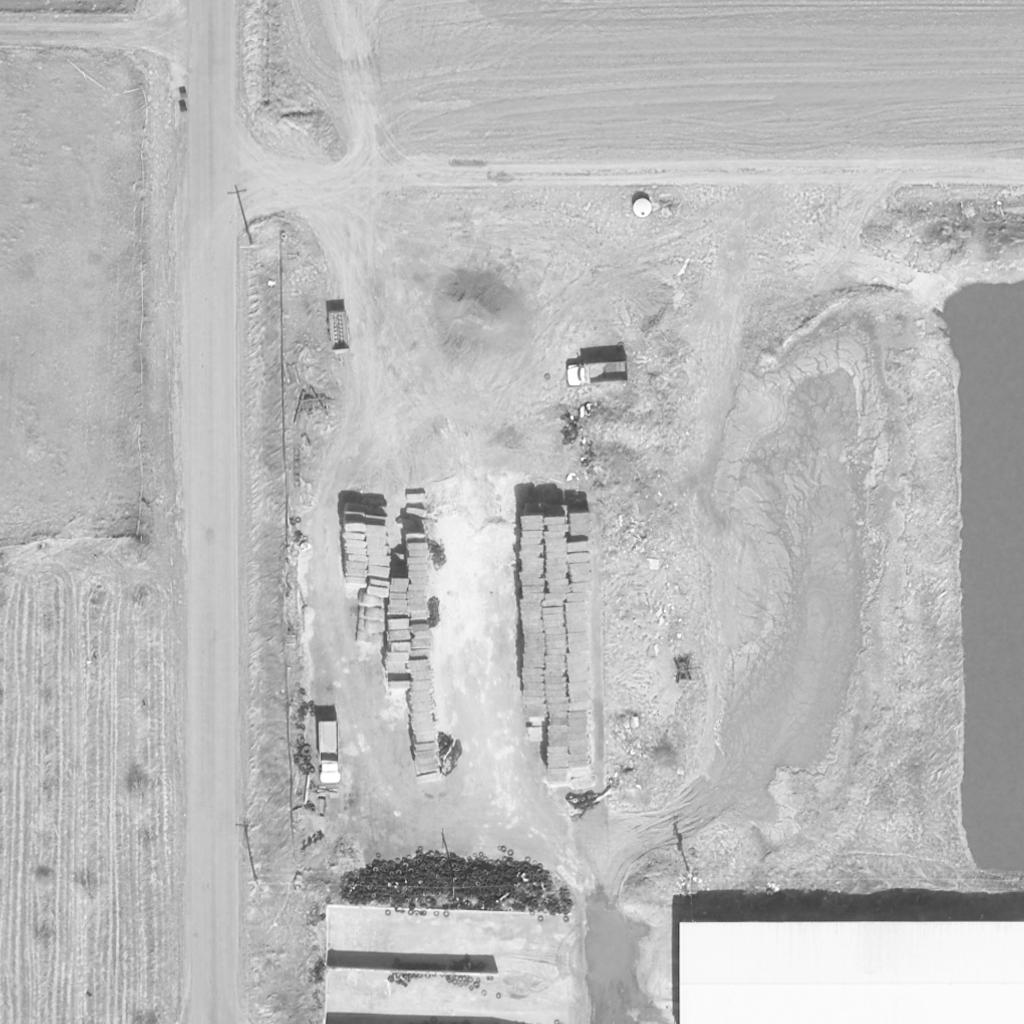vehicle: (564, 360, 630, 388), (317, 720, 341, 786)
